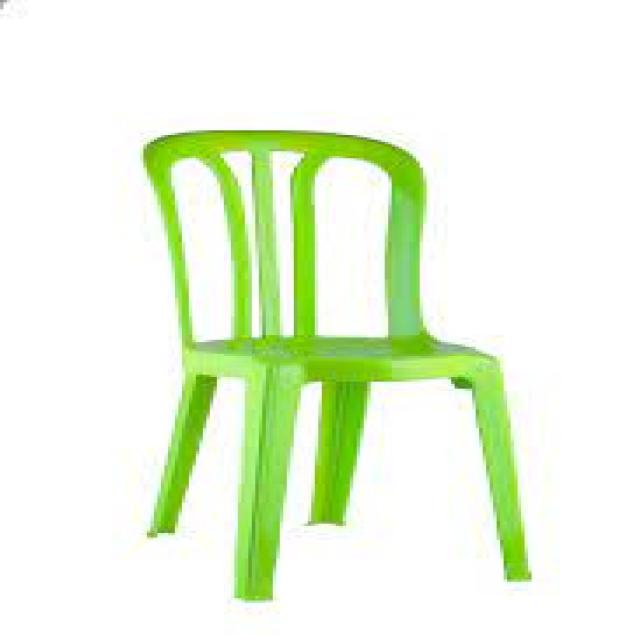chair: (97, 105, 582, 640)
